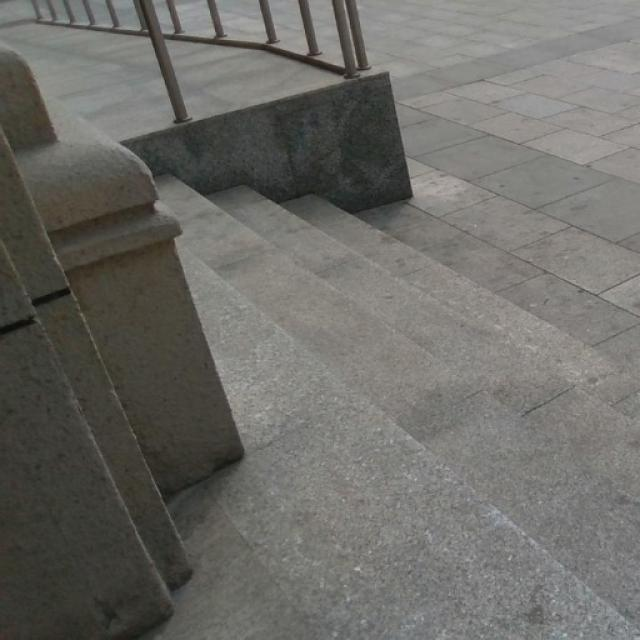stair: (221, 180, 640, 594)
